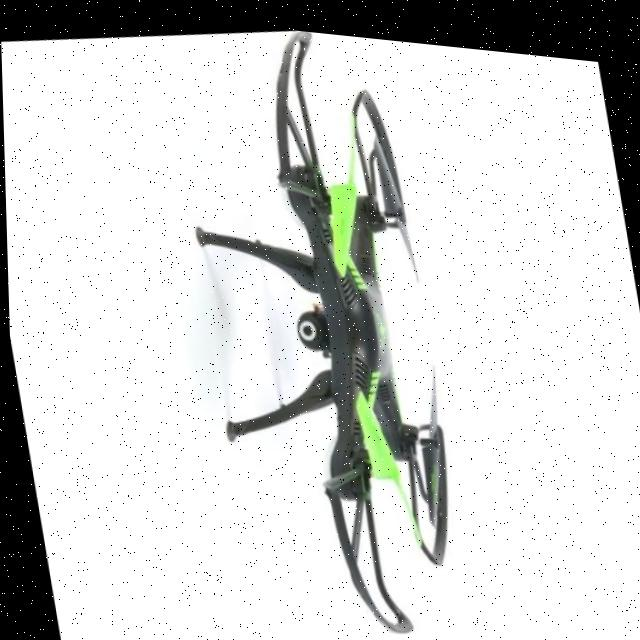drones: (132, 11, 516, 640)
